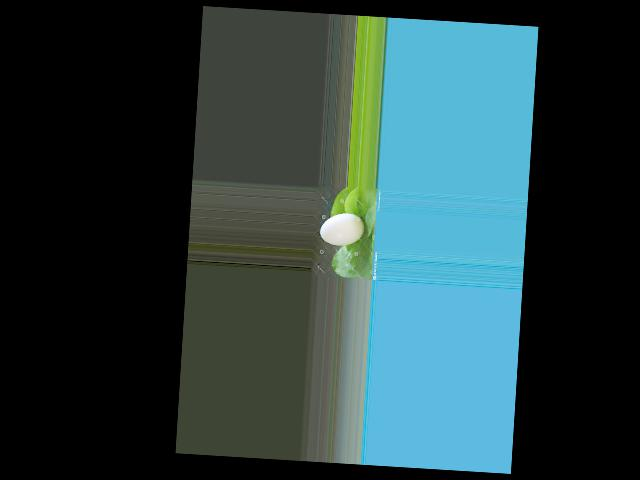egg: (319, 211, 365, 246)
